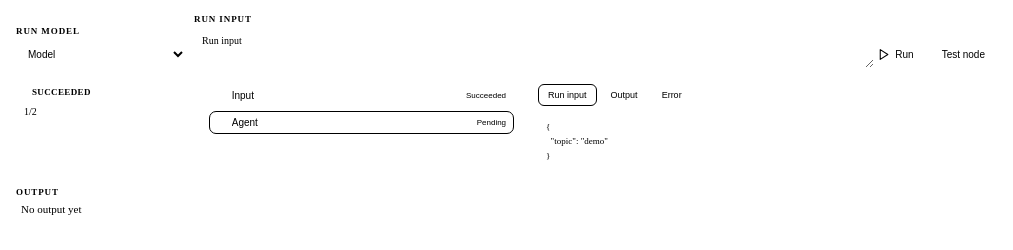
Test: workflow run panel interactions › rejects a node test with blank input through the existing parser
The image size is (1013, 250).
Step 1. Click the button "Test node" → (963, 54), box top-left (931, 40), bottom-right (996, 68)
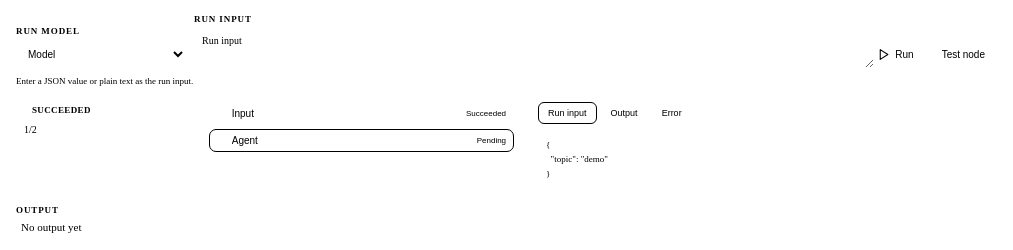
Now the text "Enter a JSON value or plain text as the run input." is shown, box top-left (16, 76), bottom-right (193, 86)
